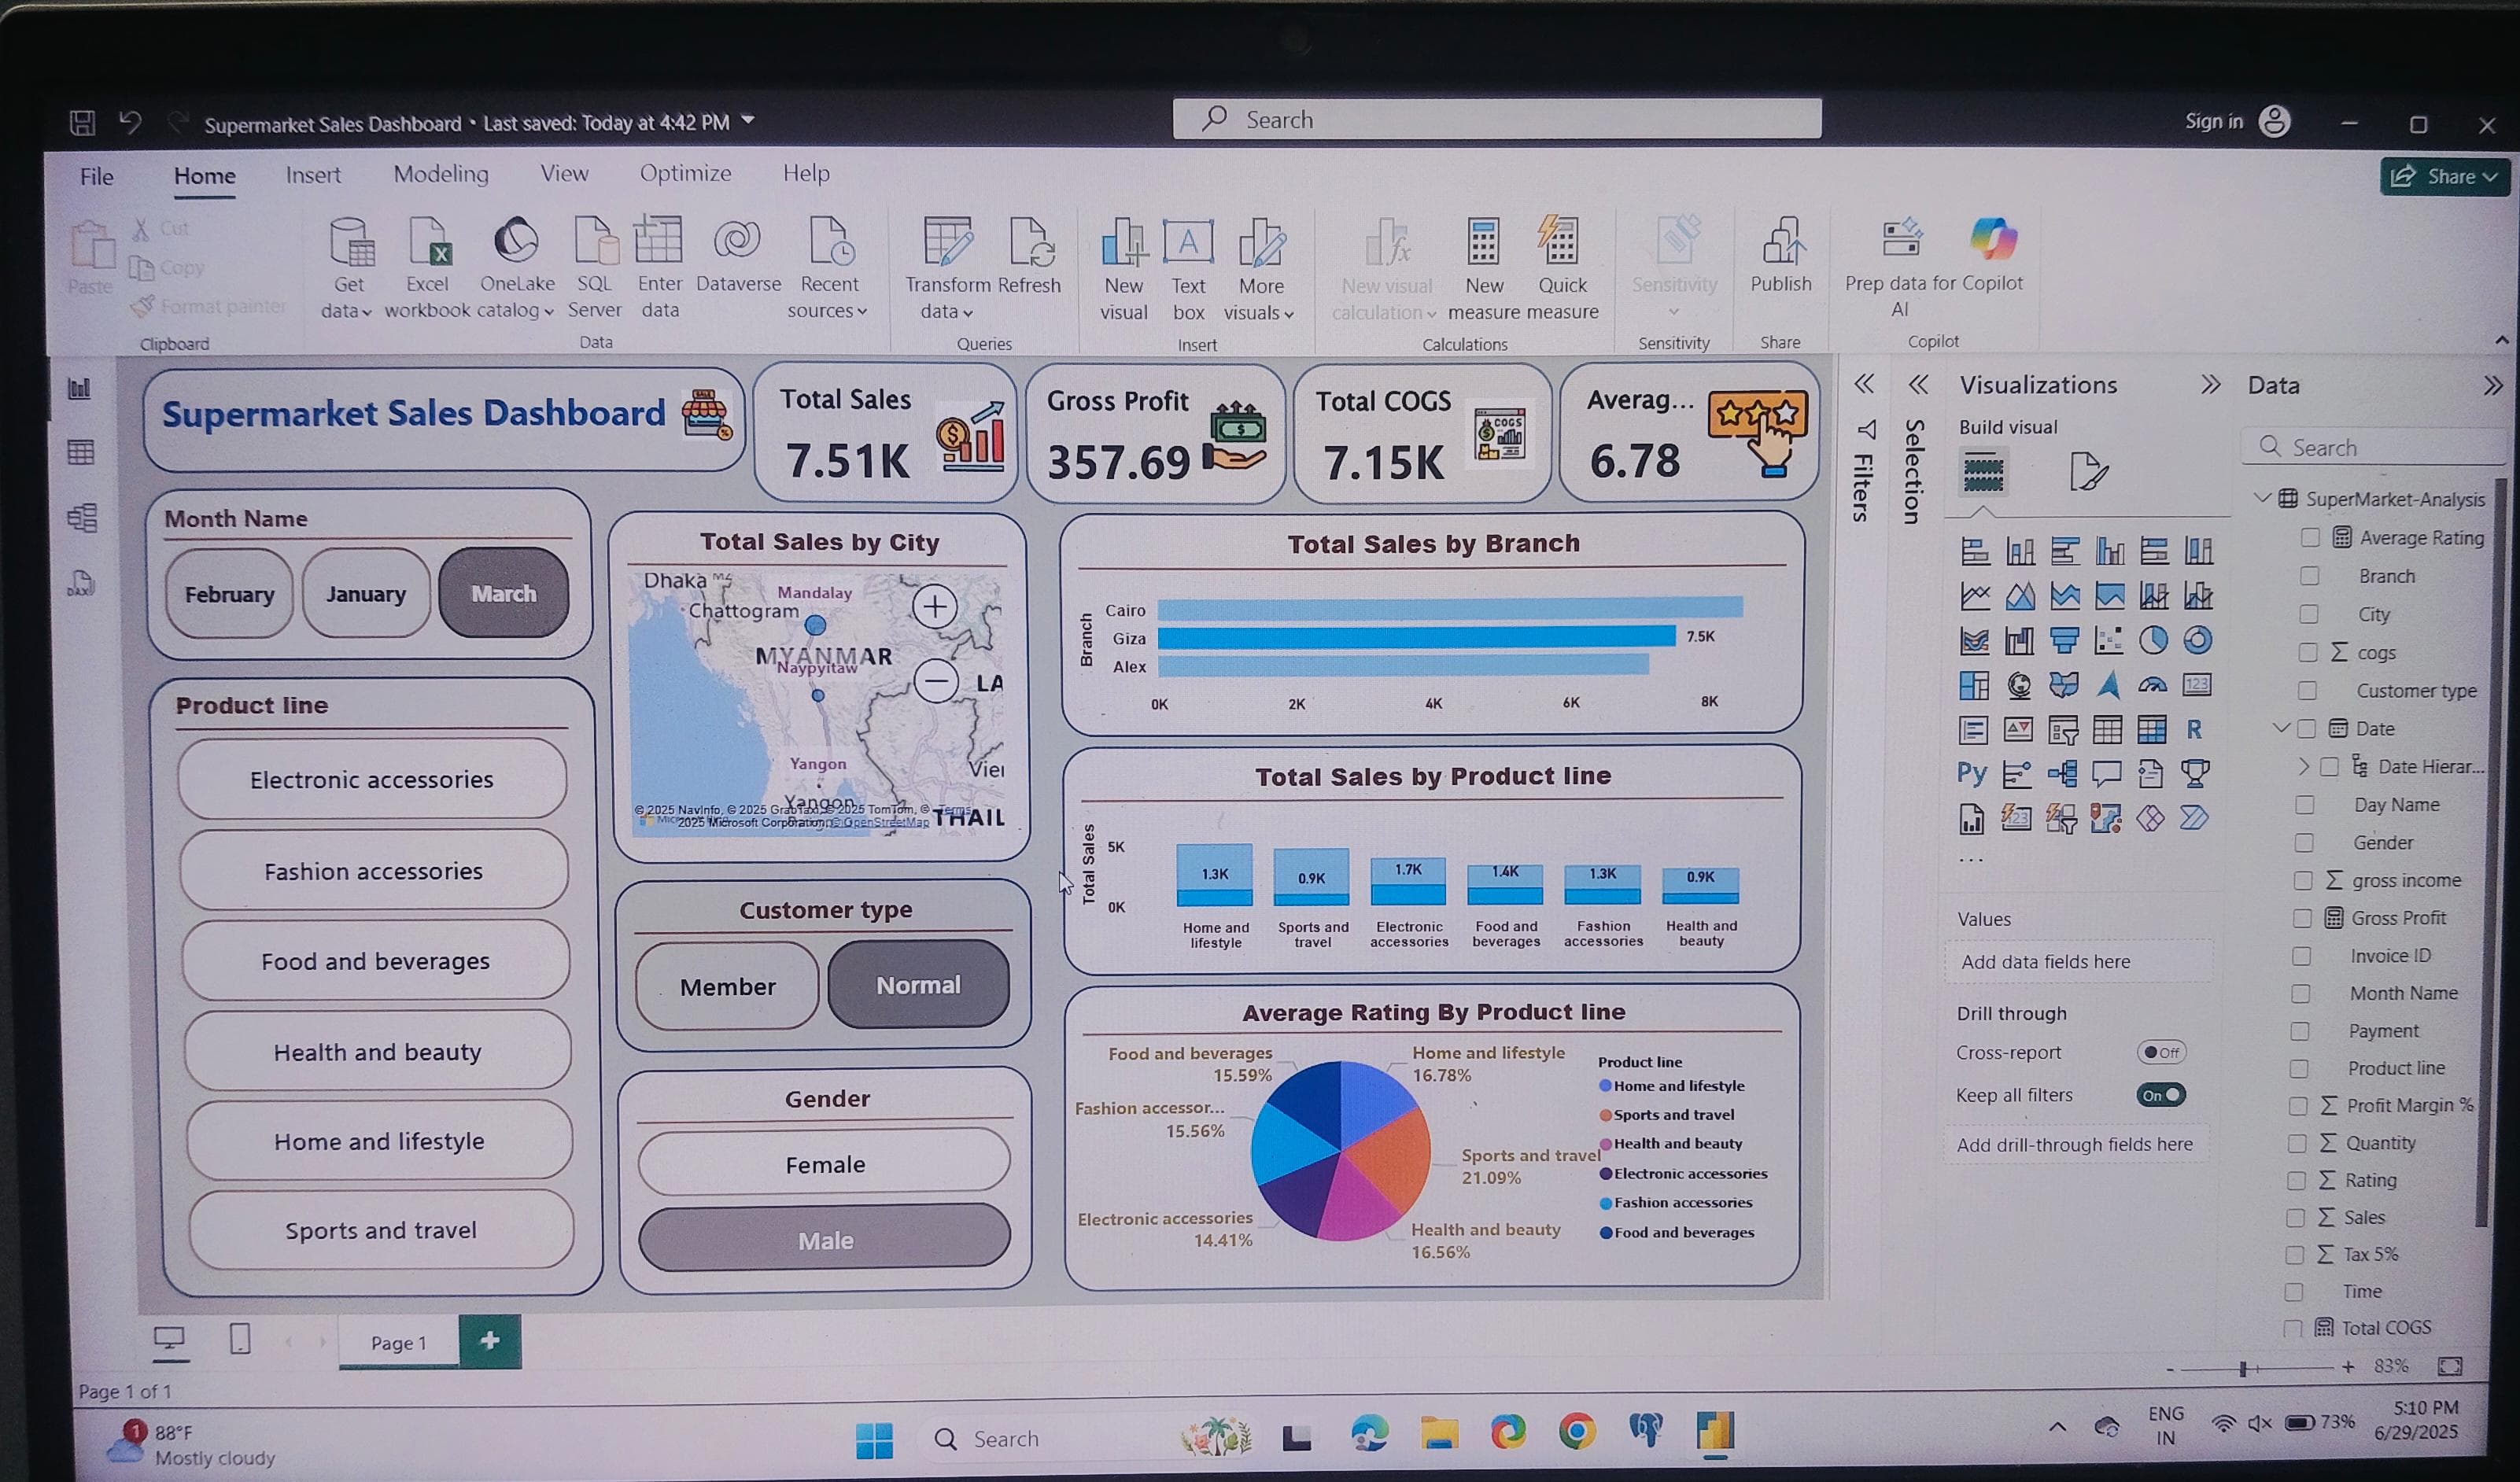

The page's visual inventory and layout, read from the dashboard file:
{"tool":"powerbi","page":{"name":"Page 1","canvas":[1280,720],"ordinal":0},"visuals":[{"type":"shape","box":[19.3,238.9,333,468.1],"z":0},{"type":"cardVisual","fields":{"Data":["SuperMarket-Analysis.Total Sales","SuperMarket-Analysis.Gross Profit","SuperMarket-Analysis.Total COGS","SuperMarket-Analysis.Average Rating"]},"box":[466.9,0,813.1,115.8],"z":4000},{"type":"advancedSlicerVisual","fields":{"Values":["SuperMarket-Analysis.Product line"]},"box":[34.8,247.7,301.9,443.8],"z":5000},{"type":"advancedSlicerVisual","fields":{"Values":["SuperMarket-Analysis.Customer type"]},"box":[363.1,392.3,310.3,130.8],"z":6000},{"type":"clusteredBarChart","fields":{"Category":["SuperMarket-Analysis.Branch"],"Y":["SuperMarket-Analysis.Total Sales"]},"box":[697.3,115.8,564.6,168.9],"z":7000},{"type":"clusteredColumnChart","fields":{"Category":["SuperMarket-Analysis.Product line"],"Y":["SuperMarket-Analysis.Total Sales"]},"box":[697.3,292,564.6,176.1],"z":8000},{"type":"map","fields":{"Category":["SuperMarket-Analysis.City"],"Size":["SuperMarket-Analysis.Total Sales"]},"box":[363.1,115.8,310.1,264.2],"z":9000},{"type":"pieChart","title":"Average Rating By Product line","fields":{"Y":["SuperMarket-Analysis.Average Rating"],"Category":["SuperMarket-Analysis.Product line"]},"box":[697.3,475.3,564.6,234],"z":10000},{"type":"advancedSlicerVisual","fields":{"Values":["SuperMarket-Analysis.Month Name"]},"box":[19.3,98.9,333,127.9],"z":11000},{"type":"advancedSlicerVisual","fields":{"Values":["SuperMarket-Analysis.Gender"]},"box":[363.1,535.7,310.3,171.1],"z":12000},{"type":"textbox","box":[19.5,9.7,448,77.9],"z":12001},{"type":"image","box":[410.4,22.3,57,47.3],"z":12002}]}

Visuals, with their boxes on the page's 1280x720 design canvas (x1, y1, x2, y2). These are canvas units, not pixel positions in the 2520x1482 screenshot, which may show the page scaled, cropped or inside an application window:
shape: 19:239:352:707
cardVisual - SuperMarket-Analysis.Total Sales x SuperMarket-Analysis.Gross Profit: 467:0:1280:116
advancedSlicerVisual - SuperMarket-Analysis.Product line: 35:248:337:692
advancedSlicerVisual - SuperMarket-Analysis.Customer type: 363:392:673:523
clusteredBarChart - SuperMarket-Analysis.Branch x SuperMarket-Analysis.Total Sales: 697:116:1262:285
clusteredColumnChart - SuperMarket-Analysis.Product line x SuperMarket-Analysis.Total Sales: 697:292:1262:468
map - SuperMarket-Analysis.City x SuperMarket-Analysis.Total Sales: 363:116:673:380
"Average Rating By Product line" pieChart: 697:475:1262:709
advancedSlicerVisual - SuperMarket-Analysis.Month Name: 19:99:352:227
advancedSlicerVisual - SuperMarket-Analysis.Gender: 363:536:673:707
textbox: 20:10:468:88
image: 410:22:467:70
